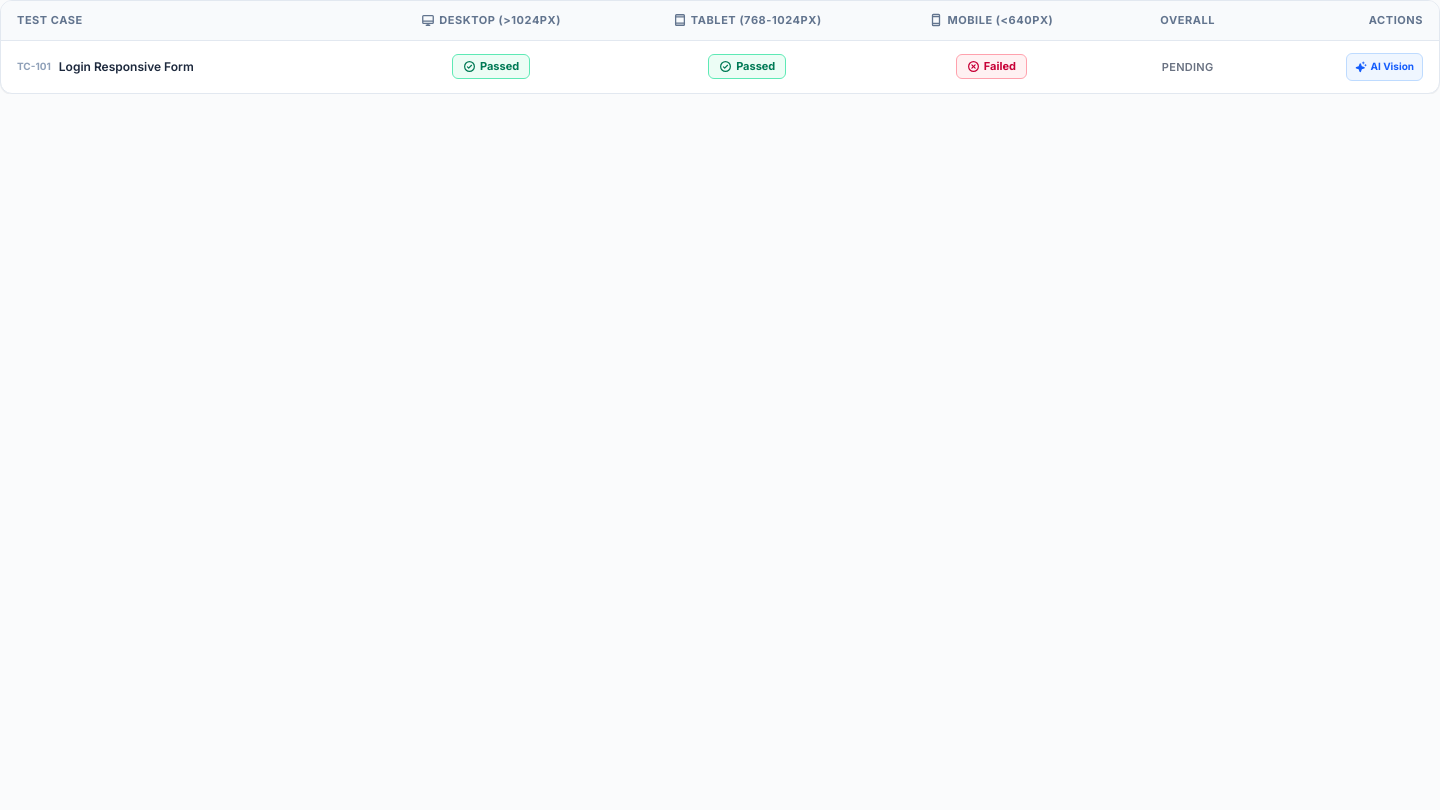
Test case: ExecutionMatrixView › opens AI Vision modal when AI Vision button is clicked
This screenshot has width=1440, height=810.
Click the button "AI Vision" at (1384, 67), box [1346, 53, 1423, 81]
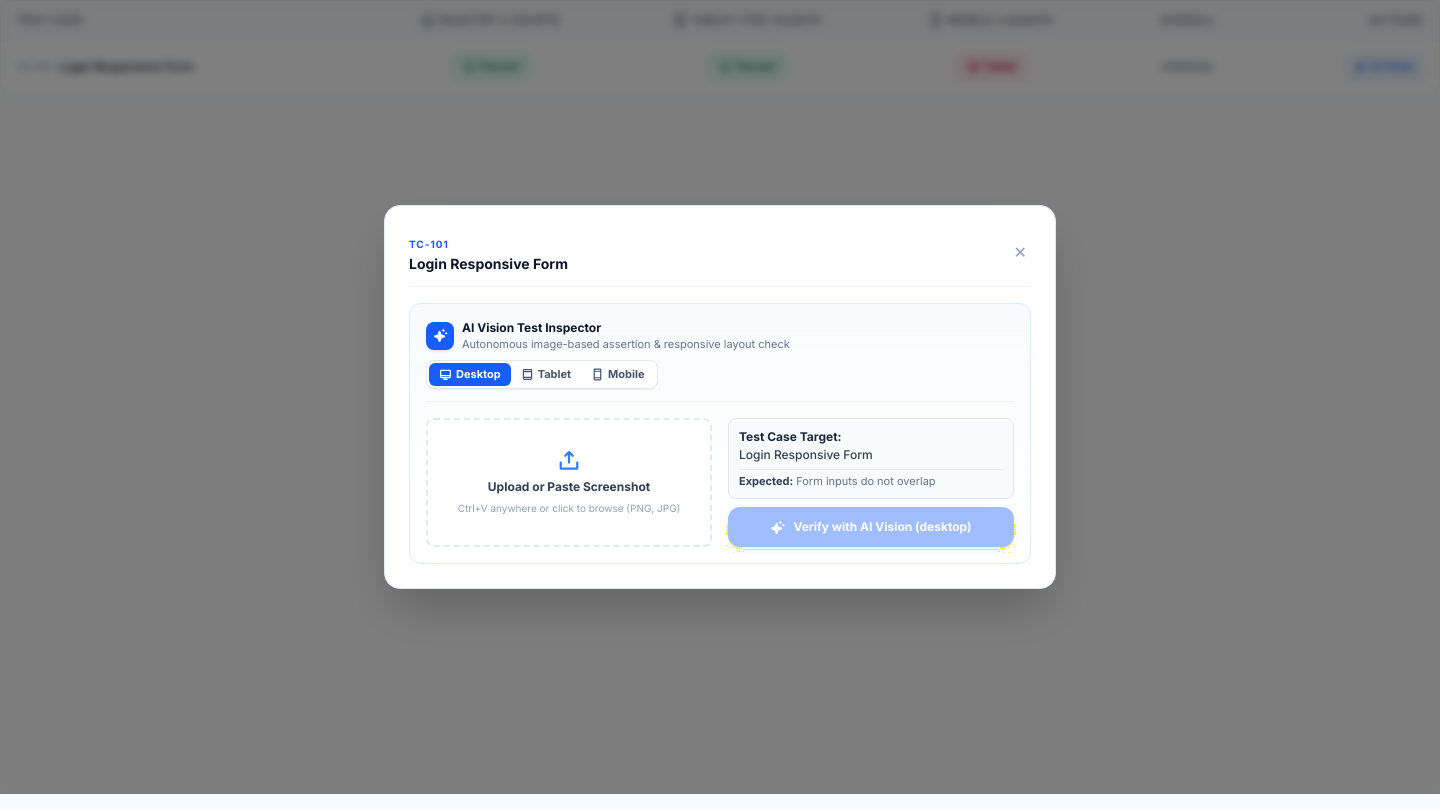
Now the heading "AI Vision Test Inspector" is shown, box [462, 320, 601, 335]
